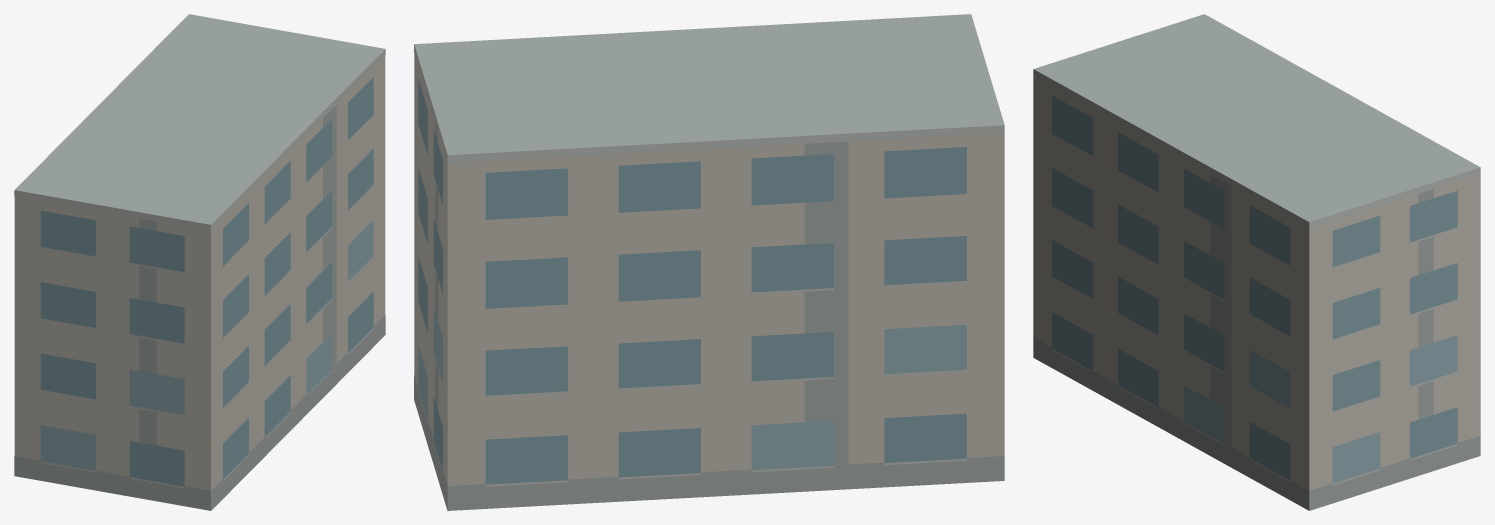
File: residential-783a3c44-568d-4312-8c7a-ead71ab492f1.glb
The picture shows the model from 3 angles, left to right: view 1: azimuth 30°, elevation 25°; view 2: azimuth 150°, elevation 25°; view 3: azimuth 270°, elevation 25°; orthographic projection. The views are drawn at different scales.
Parts seen in each view (by area): view 1: residential-783a3c44-568d-4312-8c7a-ead71ab492f1.tmp; view 2: residential-783a3c44-568d-4312-8c7a-ead71ab492f1.tmp; view 3: residential-783a3c44-568d-4312-8c7a-ead71ab492f1.tmp.
Part boxes in pixels (x1=…): residential-783a3c44-568d-4312-8c7a-ead71ab492f1.tmp: x1=14, y1=14, x2=385, y2=510; residential-783a3c44-568d-4312-8c7a-ead71ab492f1.tmp: x1=414, y1=14, x2=1004, y2=510; residential-783a3c44-568d-4312-8c7a-ead71ab492f1.tmp: x1=1033, y1=14, x2=1480, y2=510.
Size of the model in its own units: 16.64 by 10.75 by 15.1.
